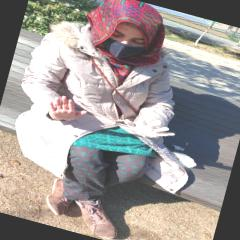gloved: (122, 112, 176, 144)
not-gloved: (46, 92, 88, 126)
